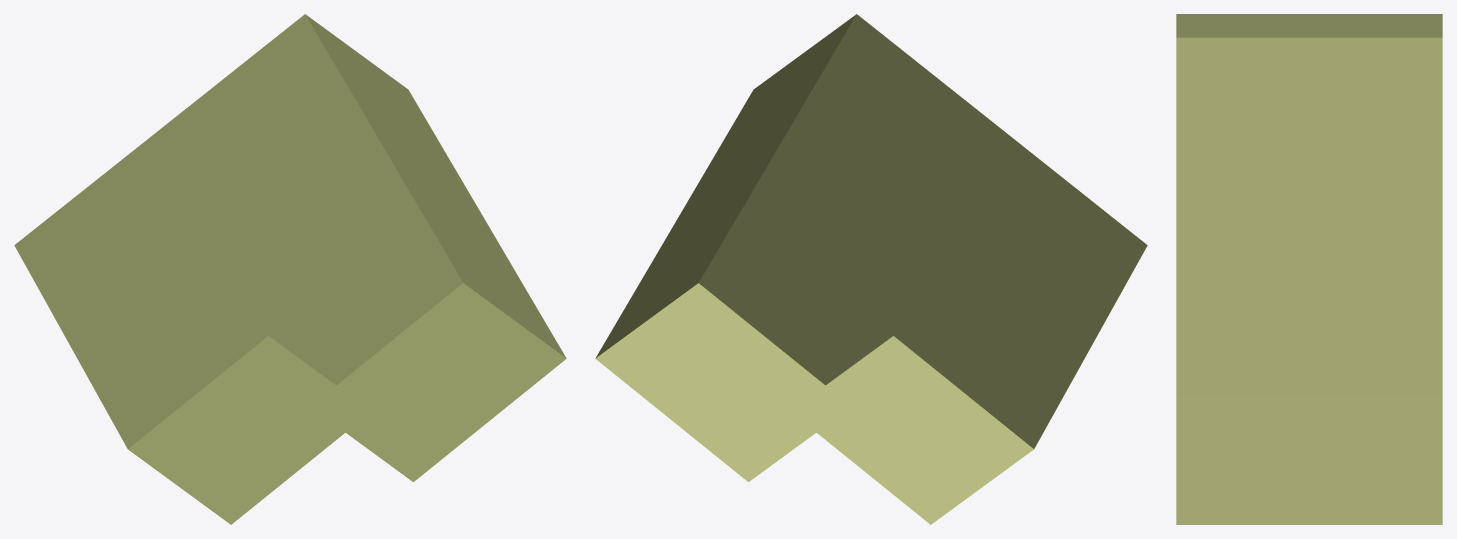
3 renders of one model, left to right at view 1: azimuth 30°, elevation 25°; view 2: azimuth 150°, elevation 25°; view 3: azimuth 270°, elevation 25°, orthographic. The views are drawn at different scales.
Parts seen in each view (by area): view 1: 0_1_0_2_0_2_2_2_1; view 2: 0_1_0_2_0_2_2_2_1; view 3: 0_1_0_2_0_2_2_2_1.
Part boxes in pixels (<box>): 0_1_0_2_0_2_2_2_1: <box>14,14,566,524</box>; 0_1_0_2_0_2_2_2_1: <box>595,14,1147,524</box>; 0_1_0_2_0_2_2_2_1: <box>1176,14,1442,524</box>.
Bounding box in the file's own units: 15.06 × 12.62 × 6.
